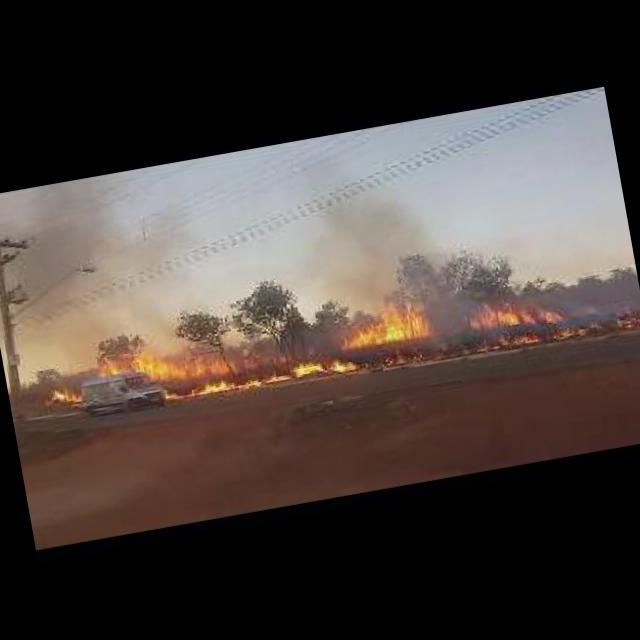fire: (164, 303, 640, 406), (100, 328, 272, 388), (338, 296, 437, 350), (468, 282, 562, 330), (46, 386, 79, 411)
smoke: (0, 166, 214, 380), (309, 177, 462, 331)
